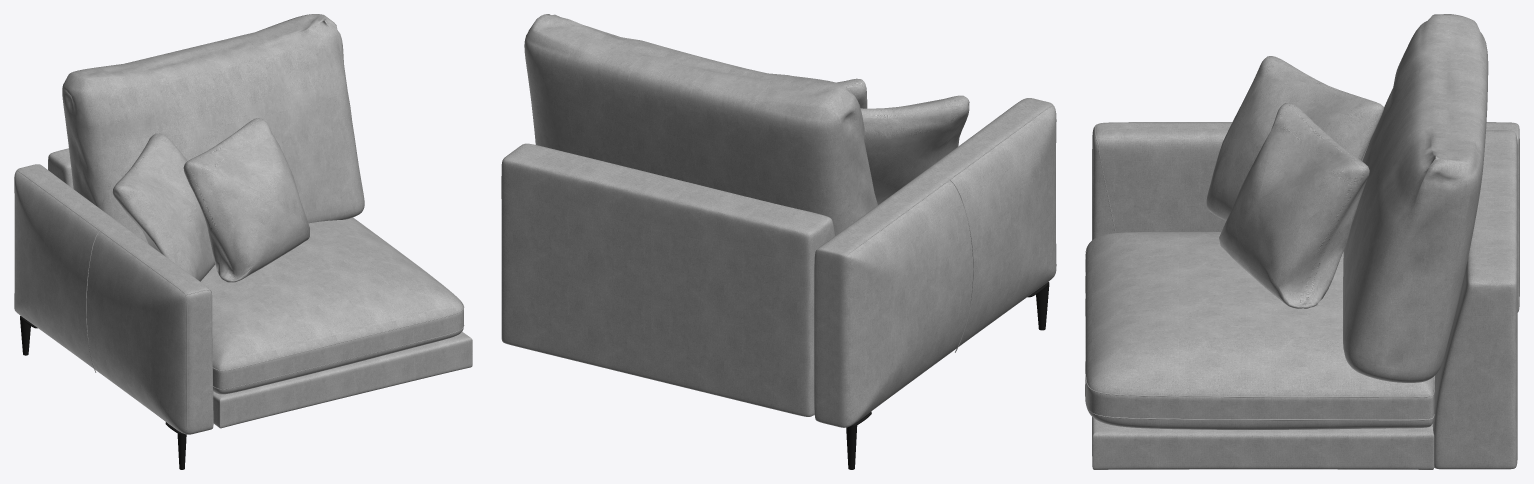
The model's file is arm.glb.
3 renders of one model, left to right at view 1: azimuth 30°, elevation 25°; view 2: azimuth 150°, elevation 25°; view 3: azimuth 270°, elevation 25°, orthographic. The views are drawn at different scales.
Parts seen in each view (by area): view 1: almofada costa 2, braço, Almofada de assento#2, ALMOFADA DECO#1, estrutura, ALMOFADA DECO#2, Costa Kaori, D=~ 0,00 m; view 2: Costa Kaori (×2), braço, almofada costa 2, ALMOFADA DECO#2; view 3: Almofada de assento#2, almofada costa 2, Costa Kaori (×2), ALMOFADA DECO#1, braço, estrutura, ALMOFADA DECO#2.
Boxes of the visible parts, <box> form: almofada costa 2: <box>62,14,364,243</box>; braço: <box>14,164,213,434</box>; Almofada de assento#2: <box>200,217,464,394</box>; ALMOFADA DECO#1: <box>183,118,309,282</box>; estrutura: <box>213,331,472,428</box>; ALMOFADA DECO#2: <box>112,133,215,281</box>; Costa Kaori: <box>48,148,73,188</box>; D=~ 0,00 m: <box>17,170,187,432</box>; Costa Kaori (×2): <box>501,143,834,416</box>; braço: <box>814,98,1056,427</box>; almofada costa 2: <box>524,14,877,235</box>; ALMOFADA DECO#2: <box>860,95,969,204</box>; Almofada de assento#2: <box>1085,232,1434,429</box>; almofada costa 2: <box>1343,14,1488,382</box>; Costa Kaori (×2): <box>1432,130,1517,469</box>; ALMOFADA DECO#1: <box>1219,103,1369,308</box>; braço: <box>1092,122,1519,312</box>; estrutura: <box>1092,417,1434,469</box>; ALMOFADA DECO#2: <box>1206,56,1383,220</box>.
Size of the model in its own units: 1.03 by 0.9174 by 1.02.
2 materials, 1 textured.
